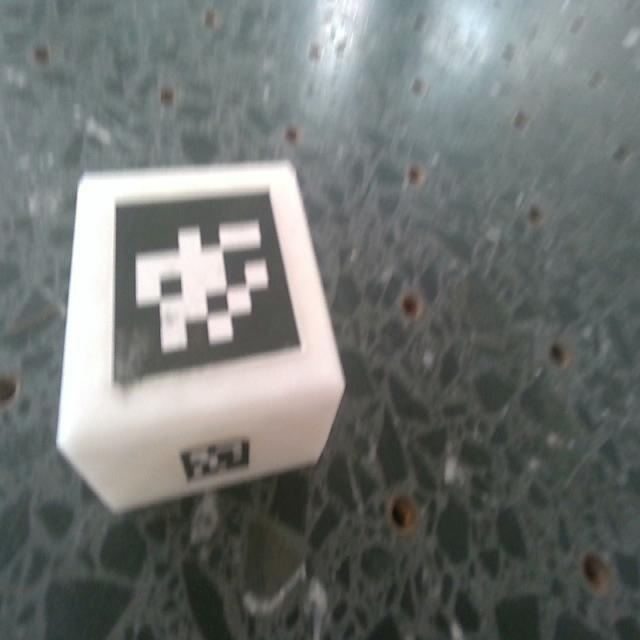Cube: (56, 163, 346, 517)
